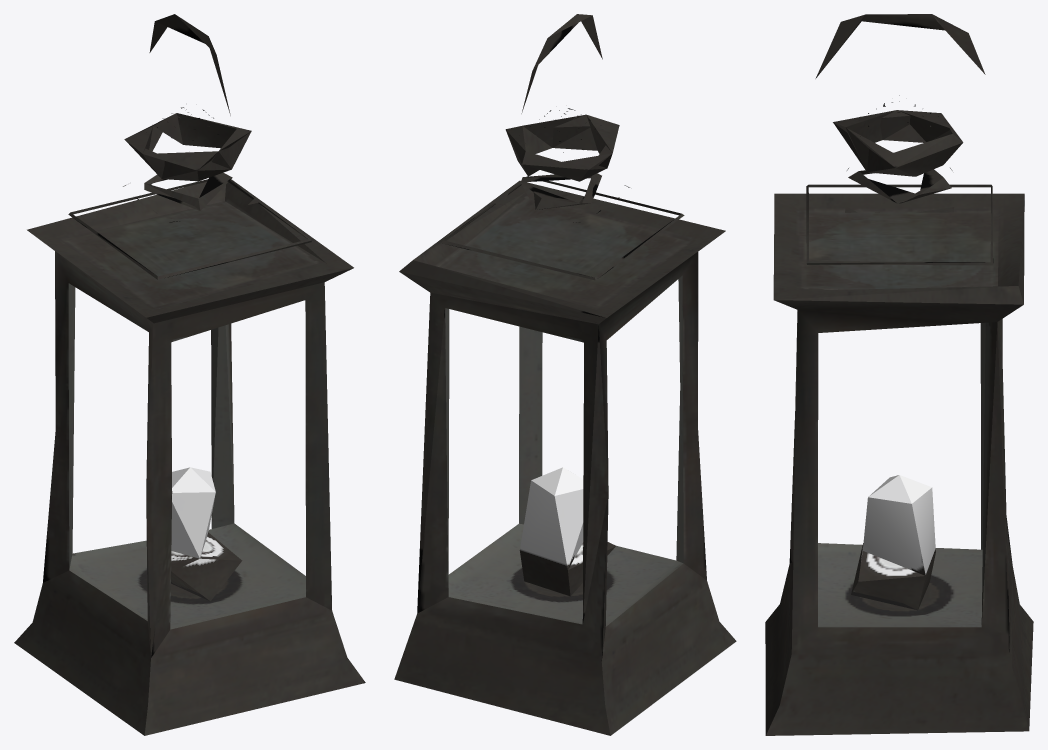
The model's file is lantern_lod0.glb.
3 renders of one model, left to right at view 1: azimuth 30°, elevation 25°; view 2: azimuth 150°, elevation 25°; view 3: azimuth 270°, elevation 25°, orthographic. The views are drawn at different scales.
Visible parts, largest first — view 1: low; view 2: low; view 3: low.
Boxes of the visible parts, x1,y1,x2,y2 form: low: (14,14,365,735); low: (394,14,736,735); low: (765,14,1033,735).
Size of the model in its own units: 0.3529 by 0.9636 by 0.3516.
Materials: 1 (1 with a texture image).
